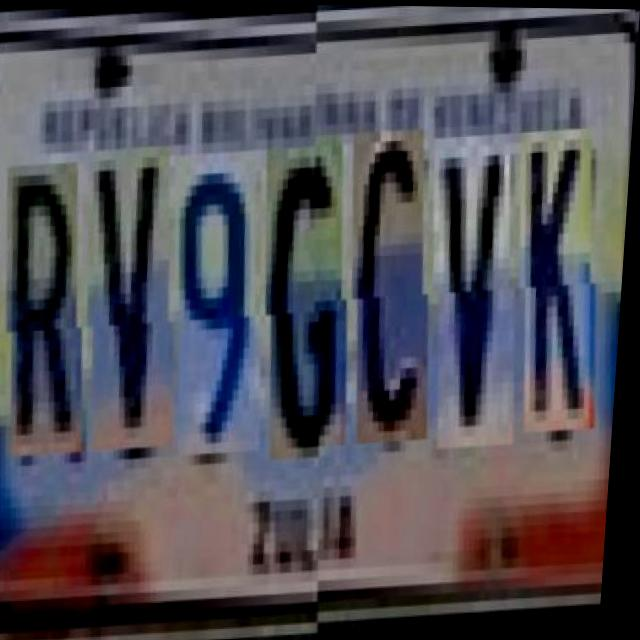9: (164, 152, 275, 460)
c: (341, 144, 443, 460)
g: (255, 149, 361, 465)
k: (510, 145, 609, 451)
r: (0, 162, 97, 458)
v: (78, 147, 189, 455), (422, 151, 529, 467)
